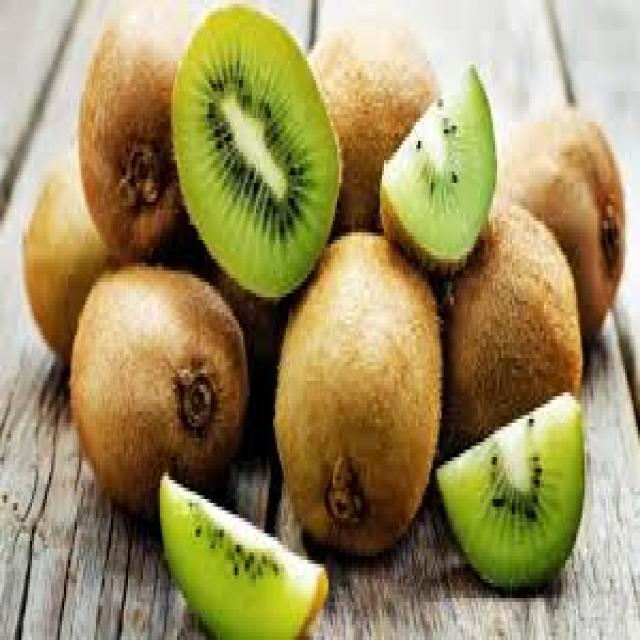organic waste: (271, 225, 444, 560), (168, 0, 342, 297), (62, 255, 249, 522), (77, 4, 209, 263), (424, 389, 584, 598), (22, 141, 165, 366), (497, 110, 625, 354), (448, 198, 582, 427), (305, 15, 442, 236), (156, 469, 326, 636), (380, 61, 495, 270)
